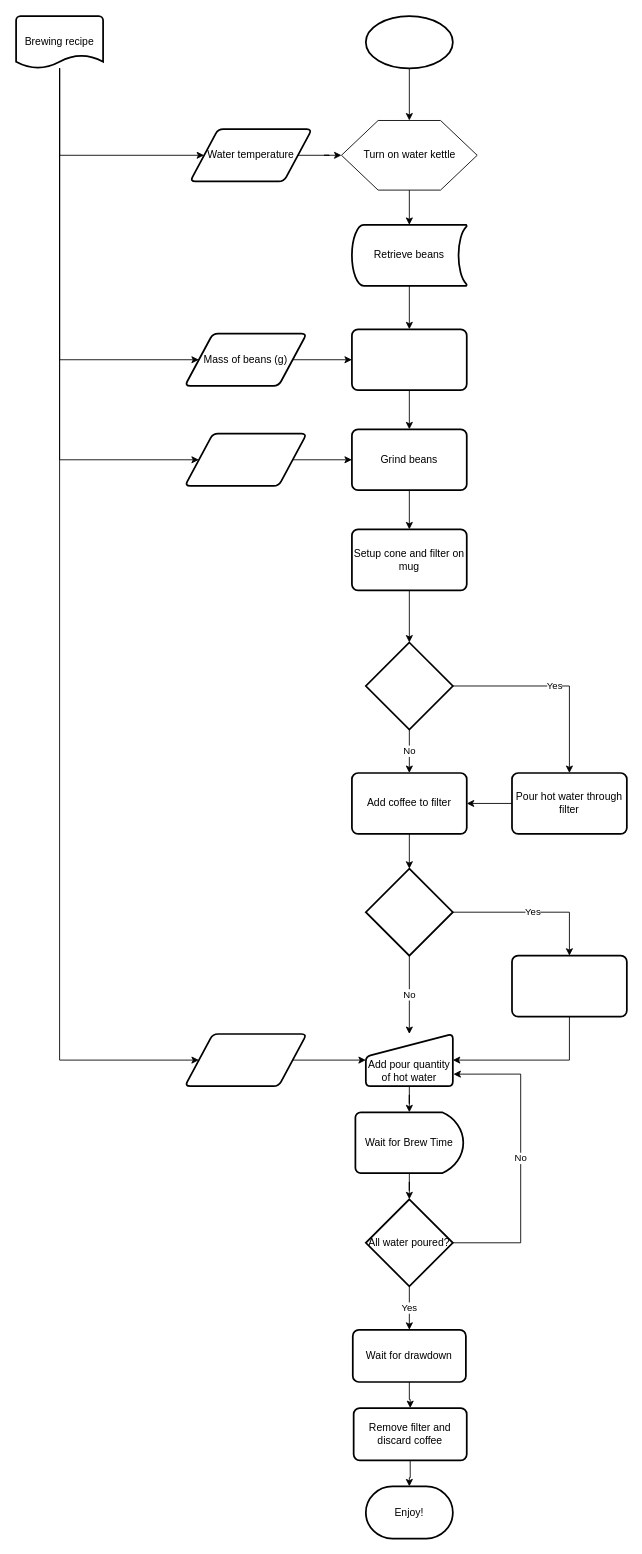
Image size: 642x1554. Some labels were removed from this diagram. The shapes that lost their labels are listed below. From the top down, each one's centre as x and y in pixels, then its label:
At point (409, 42): "Start".
At point (409, 359): "Weigh beans".
At point (245, 459): "Grind size".
At point (409, 685): "Preheat cone?".
At point (409, 911): "Bloom?".
At point (569, 985): "Pour ~2x coffee weight in water".
At point (245, 1060): "Pour quantity/count".
